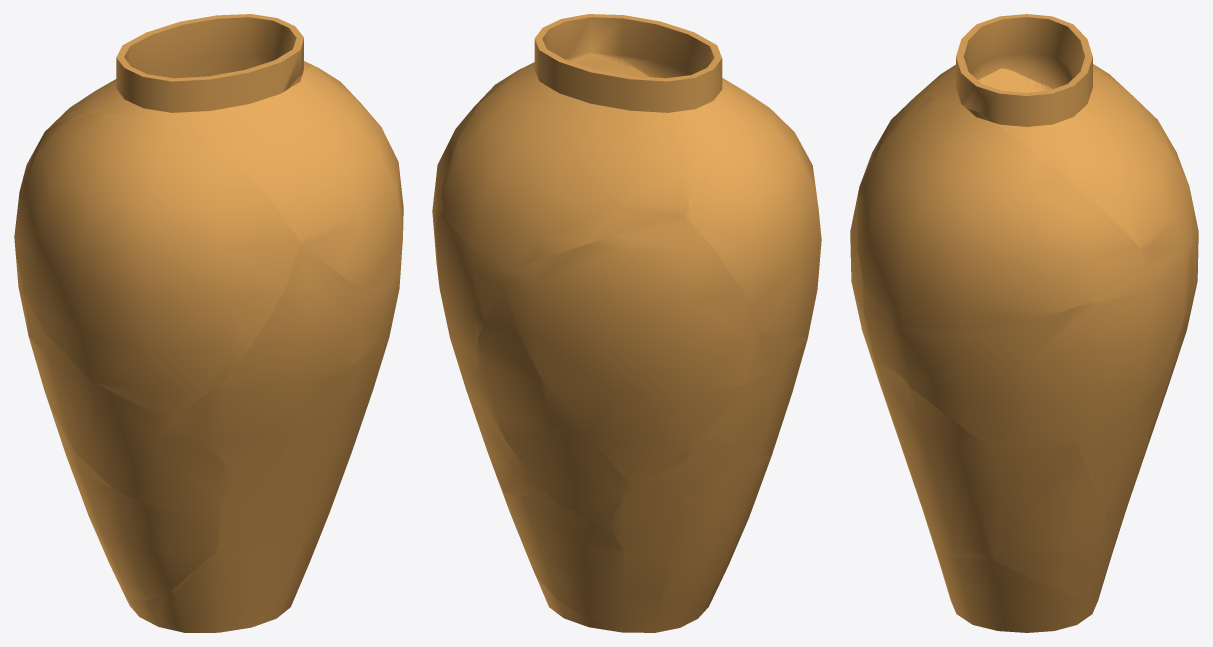
The model's file is destroyable_vase2_shatter.FBX.
3 views of the same model, side by side, from view 1: azimuth 30°, elevation 25°; view 2: azimuth 150°, elevation 25°; view 3: azimuth 270°, elevation 25° (orthographic).
Parts seen in each view (by area): view 1: destroyable_vase2_Part_15, destroyable_vase2_Part_8, destroyable_vase2_Part_7, destroyable_vase2_Part_12, destroyable_vase2_Part_1, destroyable_vase2_Part_11, destroyable_vase2_Part_10, destroyable_vase2_Part_3, destroyable_vase2_Part_4, destroyable_vase2_Part_6; view 2: destroyable_vase2_Part_7, destroyable_vase2_Part_14, destroyable_vase2_Part_15, destroyable_vase2_Part_10, destroyable_vase2_Part_2, destroyable_vase2_Part_13, destroyable_vase2_Part_6, destroyable_vase2_Part_1, destroyable_vase2_Part_9, destroyable_vase2_Part_3, destroyable_vase2_Part_8; view 3: destroyable_vase2_Part_8, destroyable_vase2_Part_6, destroyable_vase2_Part_7, destroyable_vase2_Part_11, destroyable_vase2_Part_5, destroyable_vase2_Part_3, destroyable_vase2_Part_13, destroyable_vase2_Part_9, destroyable_vase2_Part_4, destroyable_vase2_Part_2, destroyable_vase2_Part_12, destroyable_vase2_Part_15 (+1 smaller).
Part boxes in pixels (<box>): destroyable_vase2_Part_15: <box>14,113,301,415</box>; destroyable_vase2_Part_8: <box>229,65,403,288</box>; destroyable_vase2_Part_7: <box>49,14,311,151</box>; destroyable_vase2_Part_12: <box>176,246,354,472</box>; destroyable_vase2_Part_1: <box>26,298,236,510</box>; destroyable_vase2_Part_11: <box>220,340,387,550</box>; destroyable_vase2_Part_10: <box>49,405,223,600</box>; destroyable_vase2_Part_3: <box>121,528,323,632</box>; destroyable_vase2_Part_4: <box>337,286,388,376</box>; destroyable_vase2_Part_6: <box>377,277,400,341</box>; destroyable_vase2_Part_7: <box>441,14,731,269</box>; destroyable_vase2_Part_14: <box>504,215,762,482</box>; destroyable_vase2_Part_15: <box>682,78,821,337</box>; destroyable_vase2_Part_10: <box>607,437,770,610</box>; destroyable_vase2_Part_2: <box>473,290,632,524</box>; destroyable_vase2_Part_13: <box>502,492,688,626</box>; destroyable_vase2_Part_6: <box>432,206,507,376</box>; destroyable_vase2_Part_1: <box>713,335,807,456</box>; destroyable_vase2_Part_9: <box>460,369,542,495</box>; destroyable_vase2_Part_3: <box>535,575,722,632</box>; destroyable_vase2_Part_8: <box>433,52,634,217</box>; destroyable_vase2_Part_8: <box>857,96,1150,331</box>; destroyable_vase2_Part_6: <box>889,239,1192,447</box>; destroyable_vase2_Part_7: <box>924,14,1193,261</box>; destroyable_vase2_Part_11: <box>873,359,1008,559</box>; destroyable_vase2_Part_5: <box>992,438,1105,547</box>; destroyable_vase2_Part_3: <box>926,520,1100,632</box>; destroyable_vase2_Part_13: <box>993,471,1139,597</box>; destroyable_vase2_Part_9: <box>1071,401,1148,522</box>; destroyable_vase2_Part_4: <box>861,274,894,368</box>; destroyable_vase2_Part_2: <box>1138,262,1193,471</box>; destroyable_vase2_Part_12: <box>850,194,876,374</box>; destroyable_vase2_Part_15: <box>860,64,955,183</box>.
Size of the model in its own units: 3.86 by 3.47 by 5.98.
